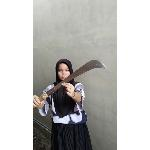Golok: (37, 58, 109, 104)
